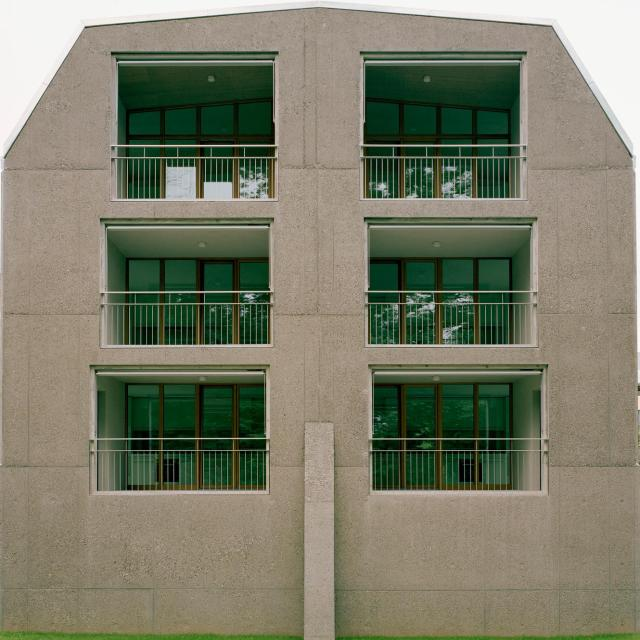railing: (96, 440, 267, 492), (366, 291, 536, 343), (108, 145, 276, 197), (368, 439, 542, 489), (101, 293, 269, 343), (360, 148, 520, 200)
window: (124, 97, 273, 200), (125, 384, 265, 491), (373, 385, 510, 492), (362, 98, 508, 198), (369, 258, 509, 342), (125, 258, 265, 342)
